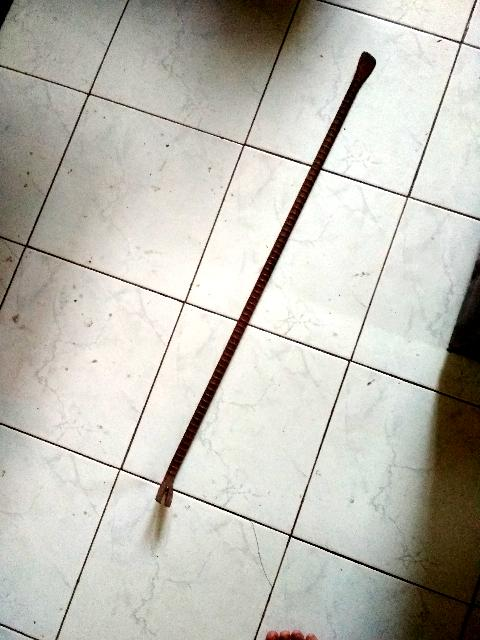crow bar: (149, 48, 385, 520)
